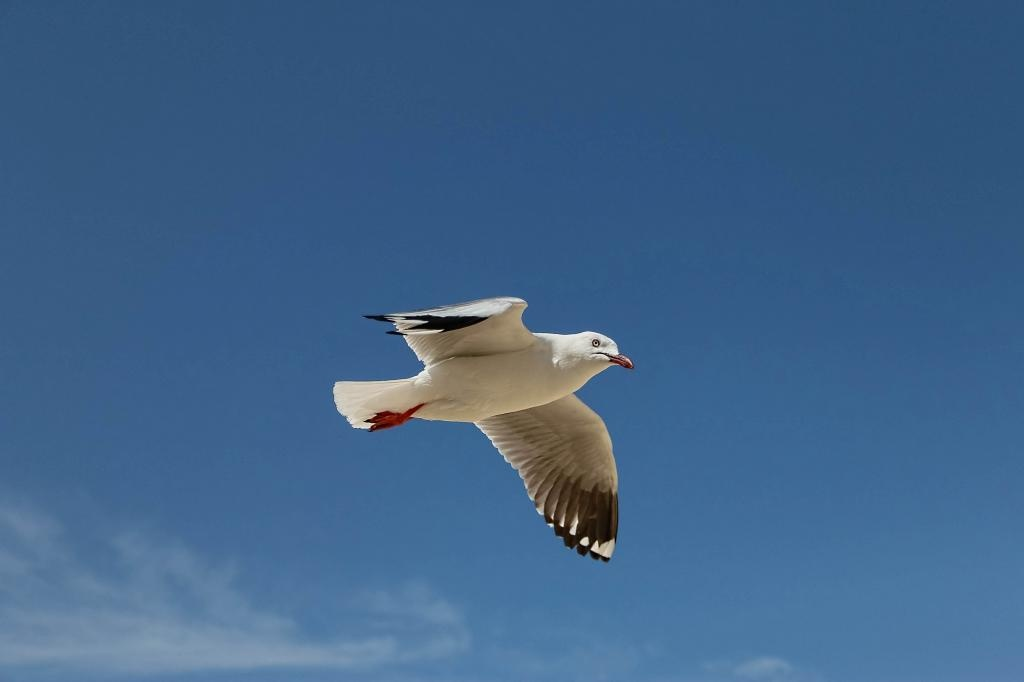bird: (313, 291, 639, 566)
